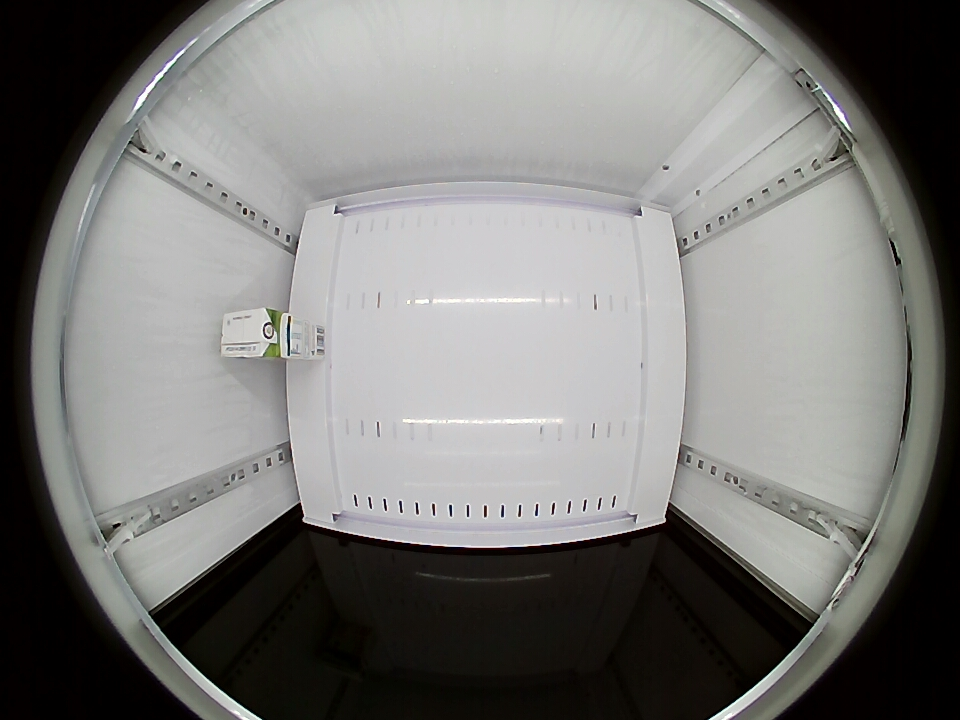mengniu: (219, 307, 283, 360)
